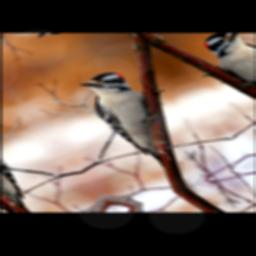Woodpecker: (72, 66, 200, 173)
